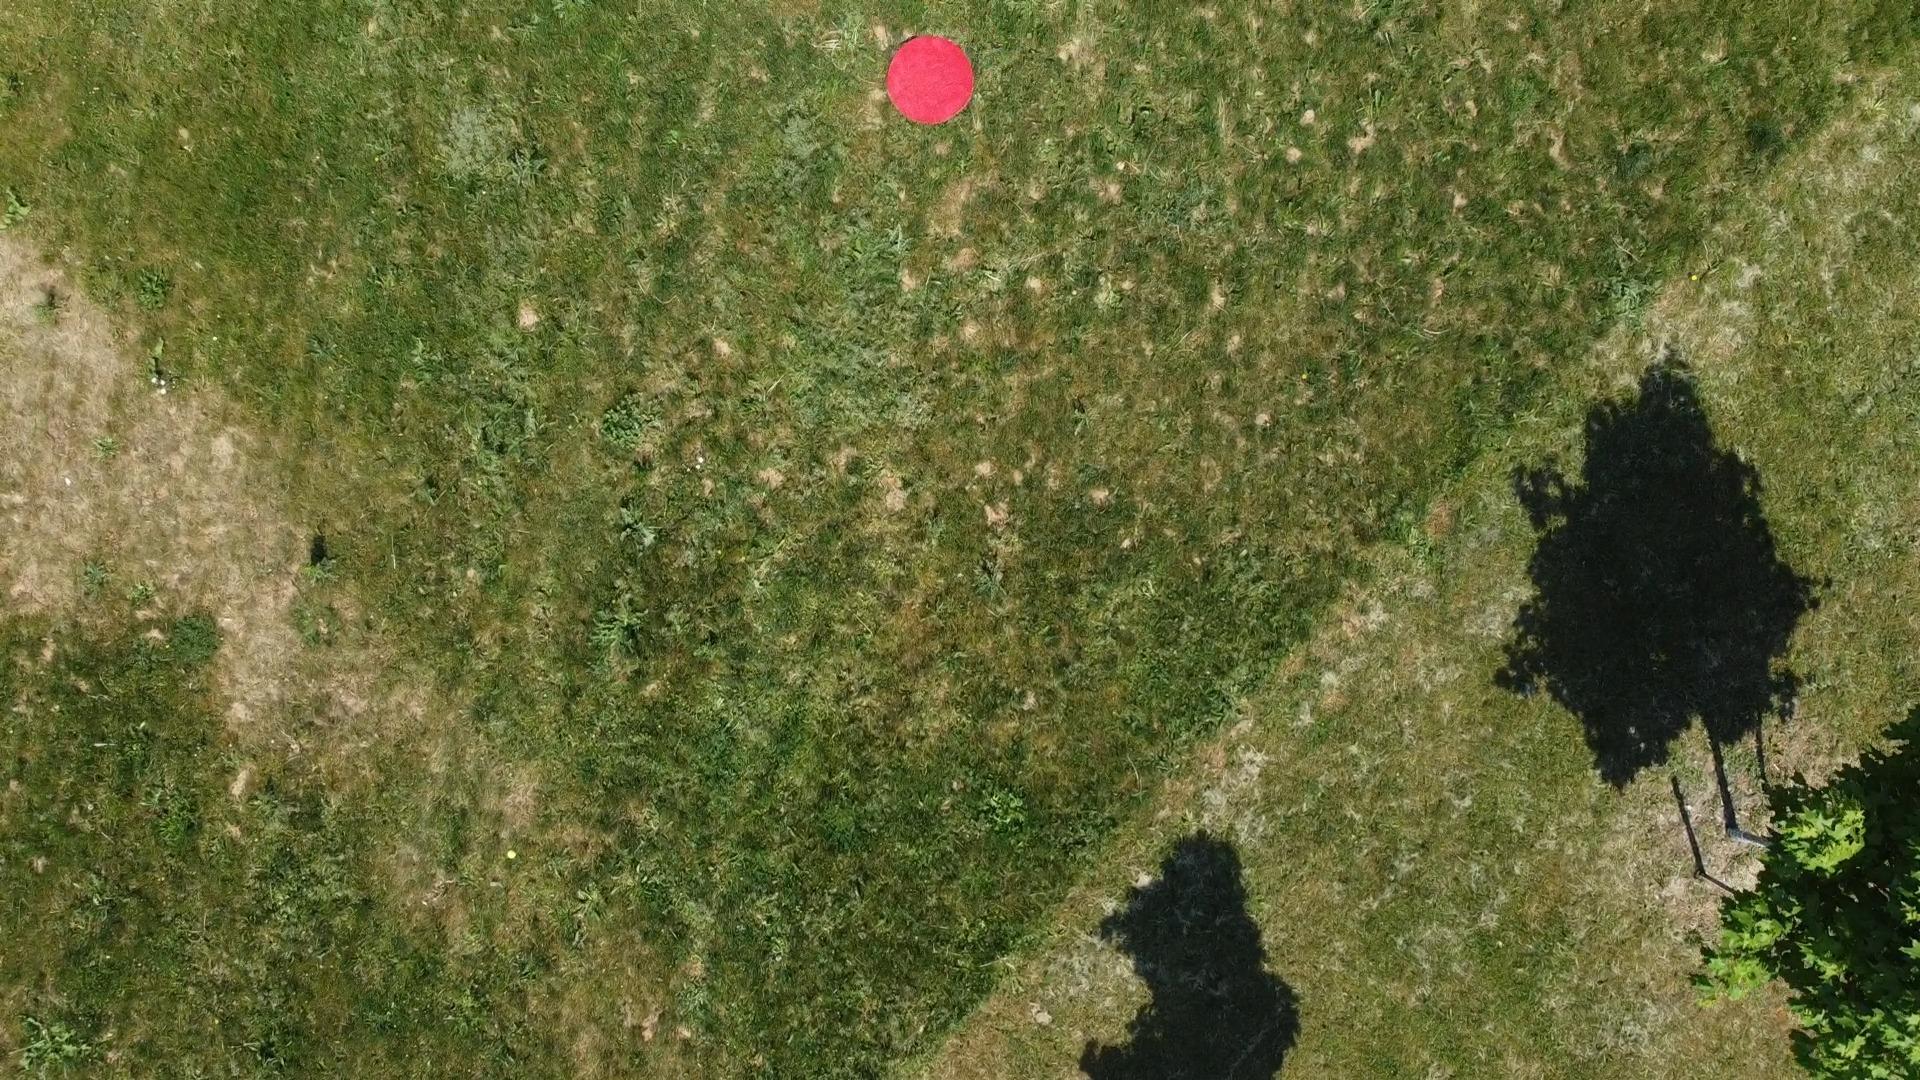Red: (885, 34, 976, 127)
